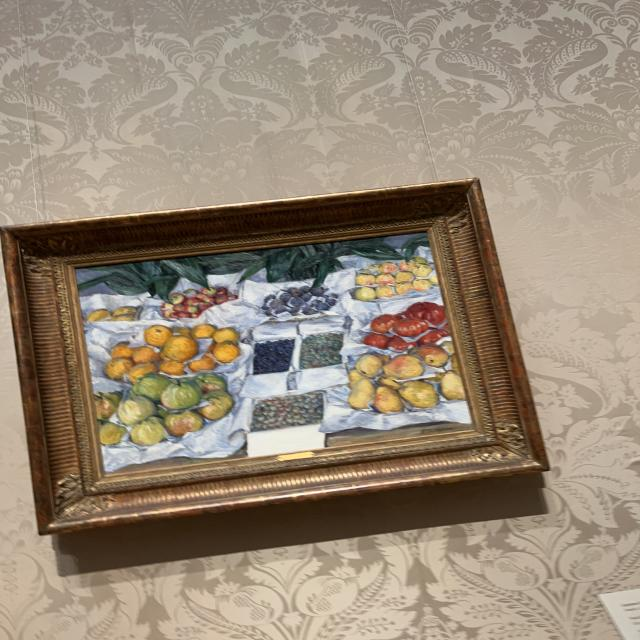fruits: (74, 229, 478, 475)
